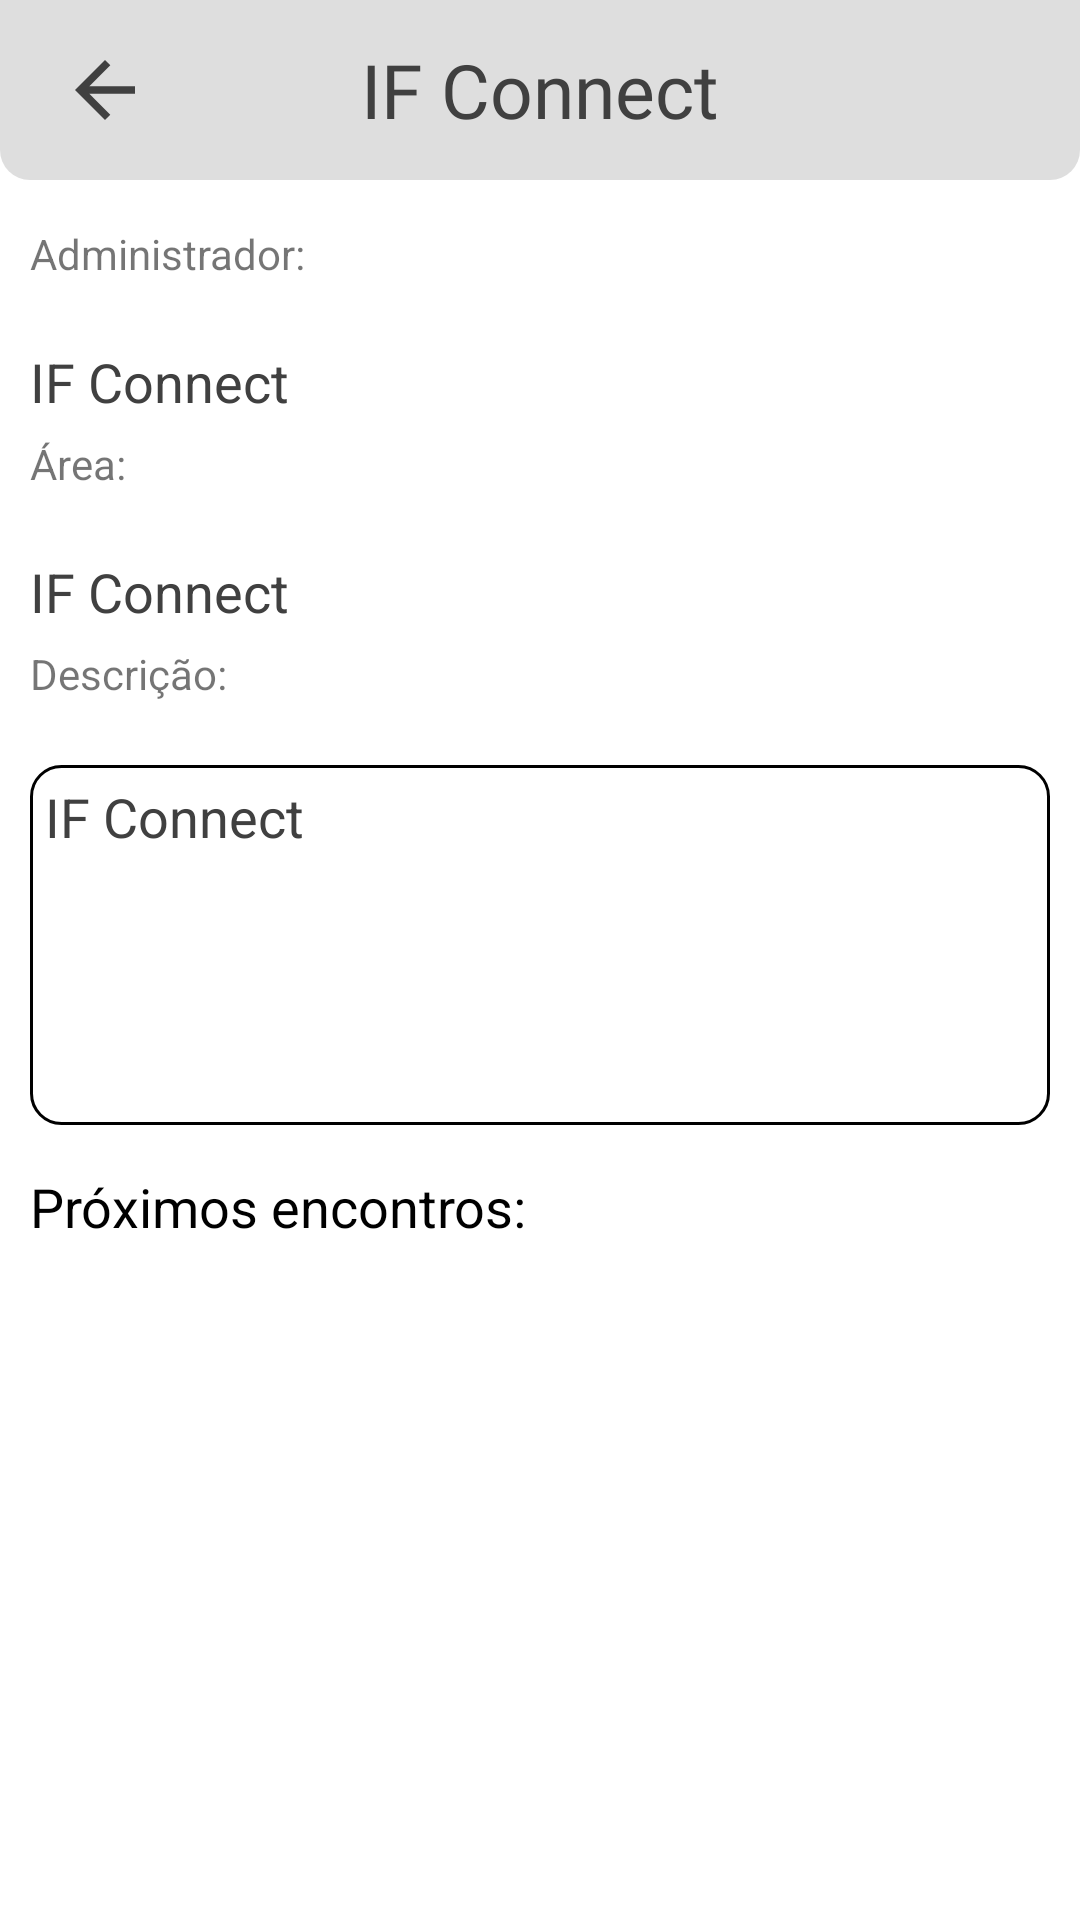

Icons on this 1080 × 1920 Android screen, each with the point to tap as point (x, y):
back: point (105, 90)
